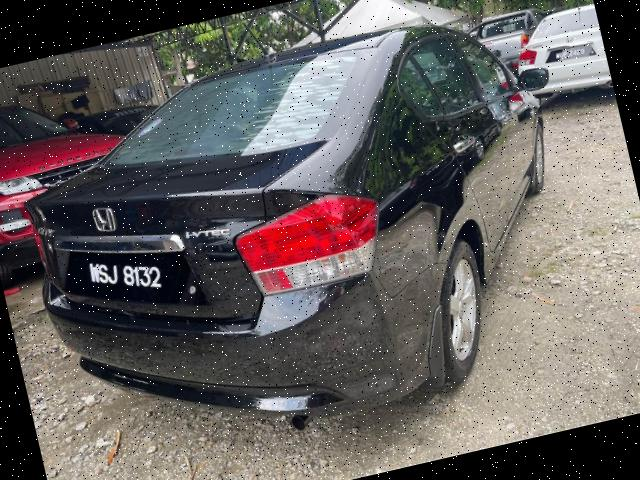License_Plate: (72, 239, 186, 318), (546, 42, 592, 65)
